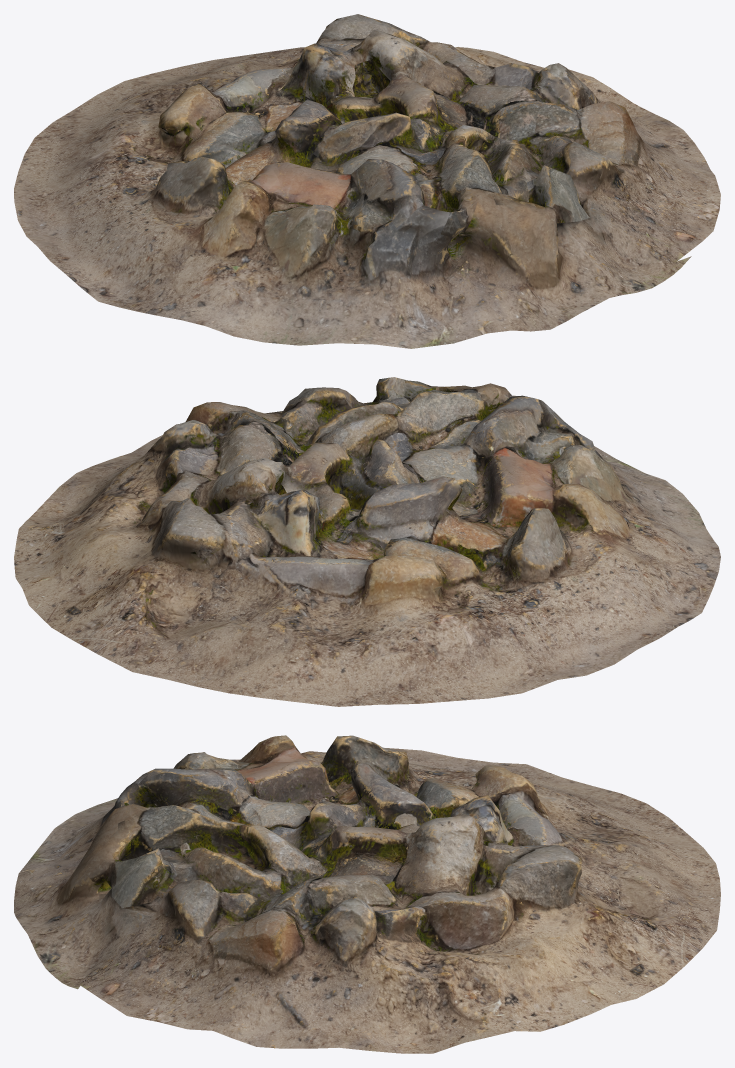
Rendered from Prop_Nature_Stone_x2.fbx.
3 views of the same model, one above another, from view 1: azimuth 30°, elevation 25°; view 2: azimuth 150°, elevation 25°; view 3: azimuth 270°, elevation 25° (orthographic).
Parts seen in each view (by area): view 1: Prop_Nature_Stone_x2; view 2: Prop_Nature_Stone_x2; view 3: Prop_Nature_Stone_x2.
Part boxes in pixels (<box>): Prop_Nature_Stone_x2: <box>14,14,720,348</box>; Prop_Nature_Stone_x2: <box>14,377,720,706</box>; Prop_Nature_Stone_x2: <box>14,735,720,1053</box>.
Bounding box in the file's own units: 124 × 23.22 × 123.
